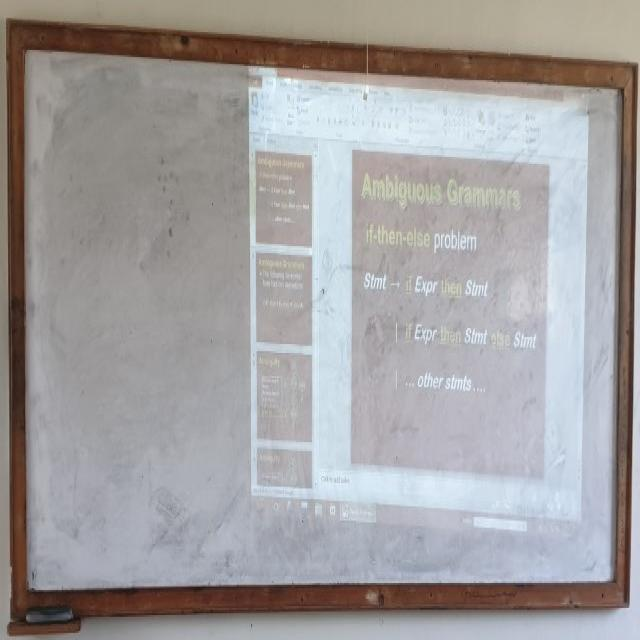Slide: (247, 43, 591, 552)
White-board: (14, 30, 629, 607)
